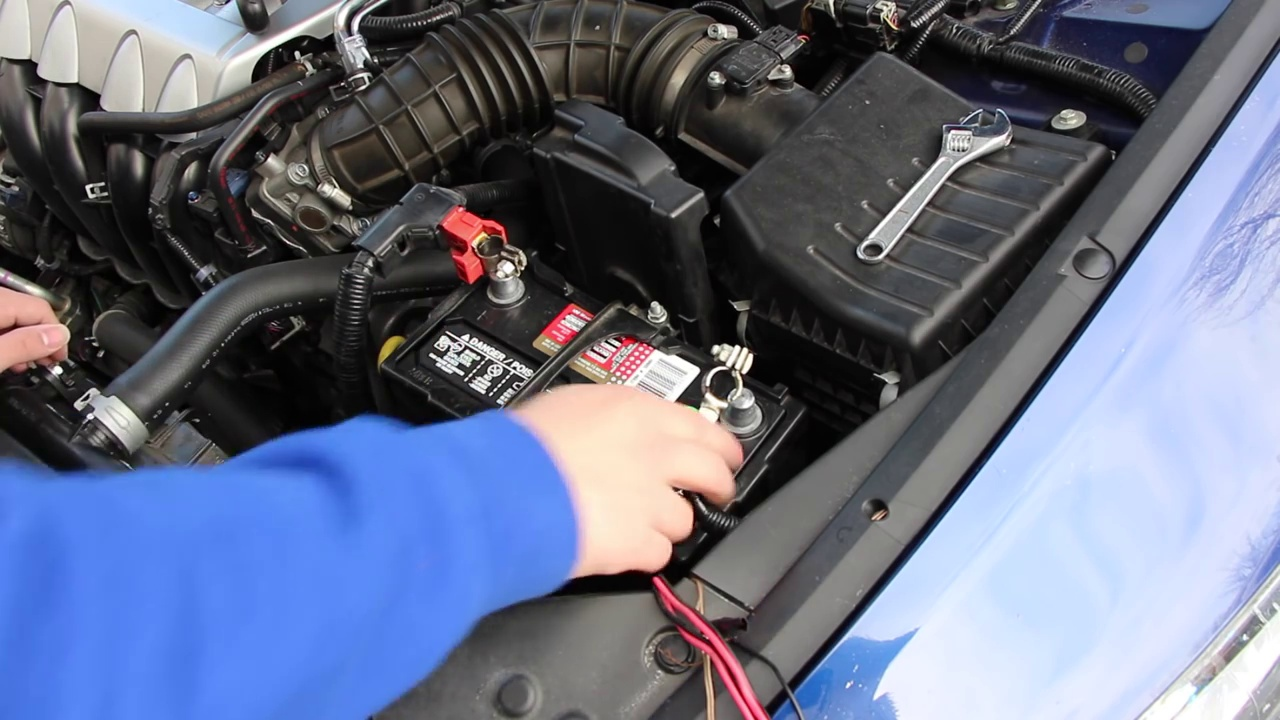battery: (376, 230, 783, 544)
neg_disconnected: (694, 344, 770, 448)
neg_touched: (645, 340, 769, 535)
pos_connected: (407, 176, 540, 316)
